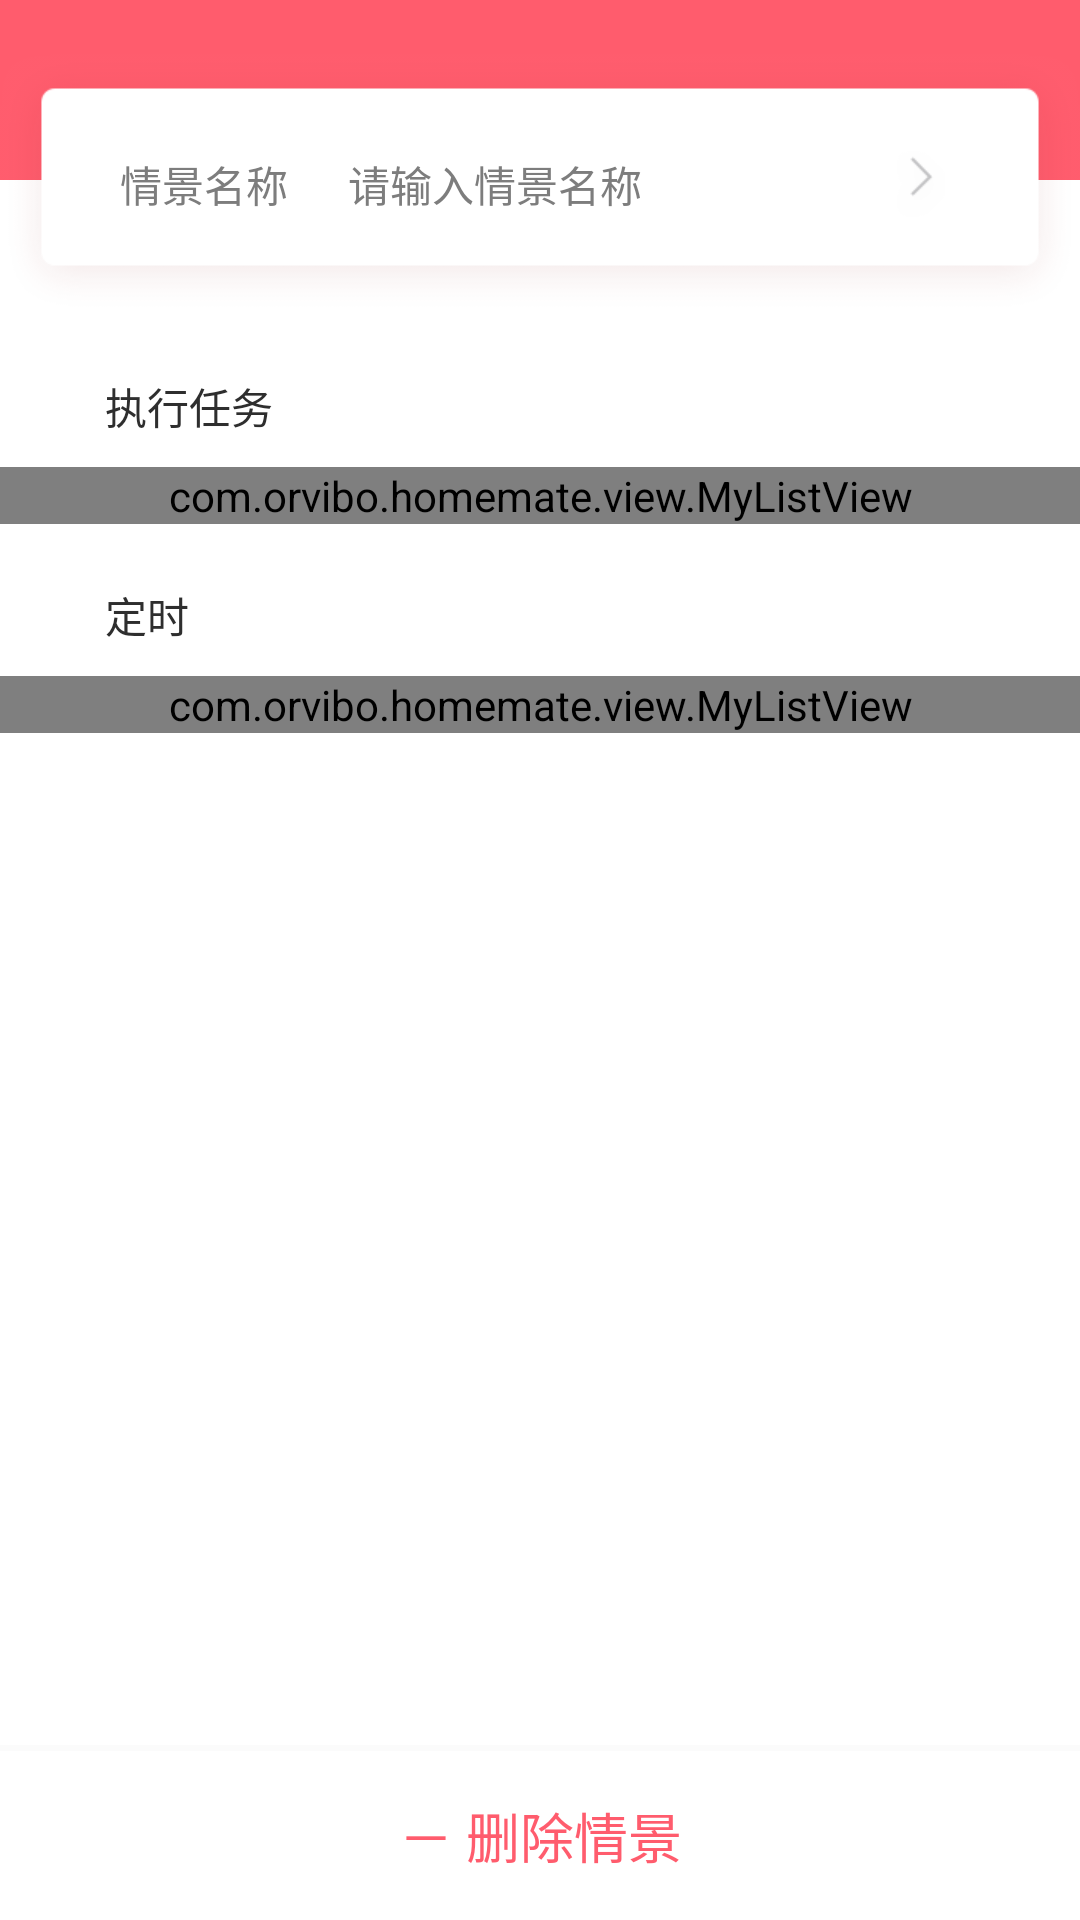

Screen size 1080w x 1920h. Icon name, then its center in pixels as (x=x, y=y):
charm home arrow: (x=921, y=176)
